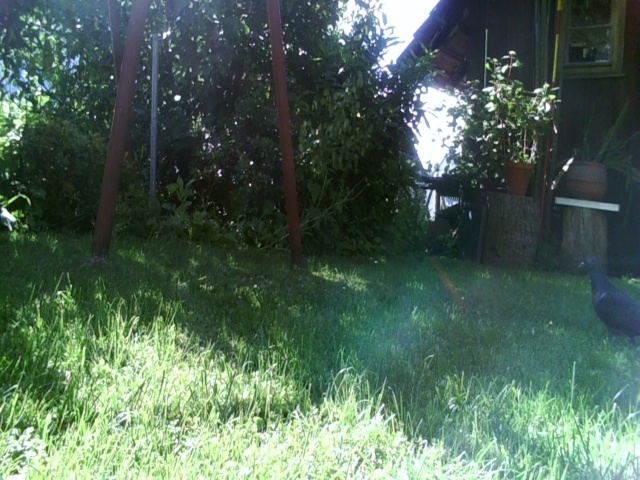Pigeon: (574, 251, 640, 349)
